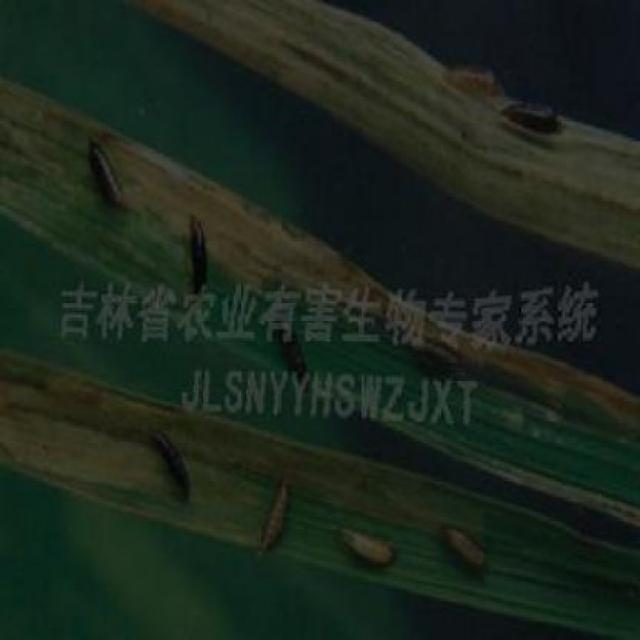whorl-maggot: (251, 457, 298, 568), (500, 81, 575, 150), (83, 129, 134, 226), (145, 423, 197, 511), (334, 514, 403, 578), (438, 508, 491, 582), (178, 200, 217, 278), (443, 57, 502, 103)
